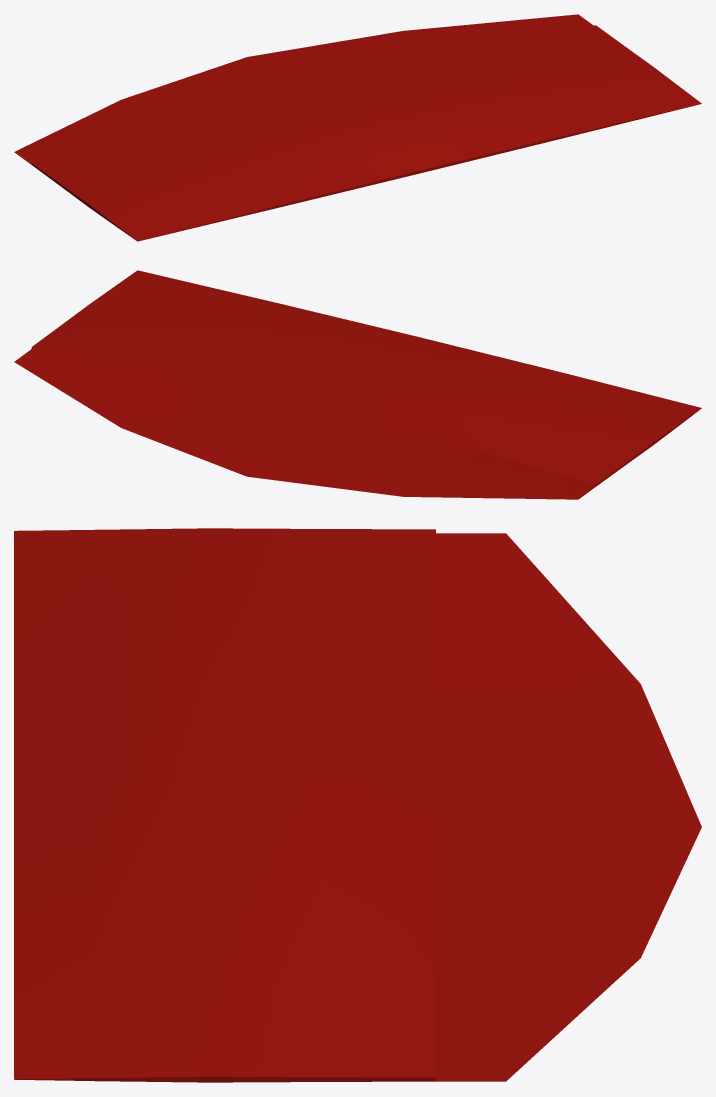
File: GG_ENVELOPE.FBX
3 views of the same model, one above another, from view 1: azimuth 30°, elevation 25°; view 2: azimuth 150°, elevation 25°; view 3: azimuth 270°, elevation 25° (orthographic). The views are drawn at different scales.
Parts seen in each view (by area): view 1: ENVELOPEN; view 2: ENVELOPEN; view 3: ENVELOPEN.
Part boxes in pixels (bbox=[...]): ENVELOPEN: bbox=[14, 14, 701, 241]; ENVELOPEN: bbox=[14, 270, 701, 499]; ENVELOPEN: bbox=[14, 528, 701, 1082].
Size of the model in its own units: 43.3 by 2.24 by 22.96.
